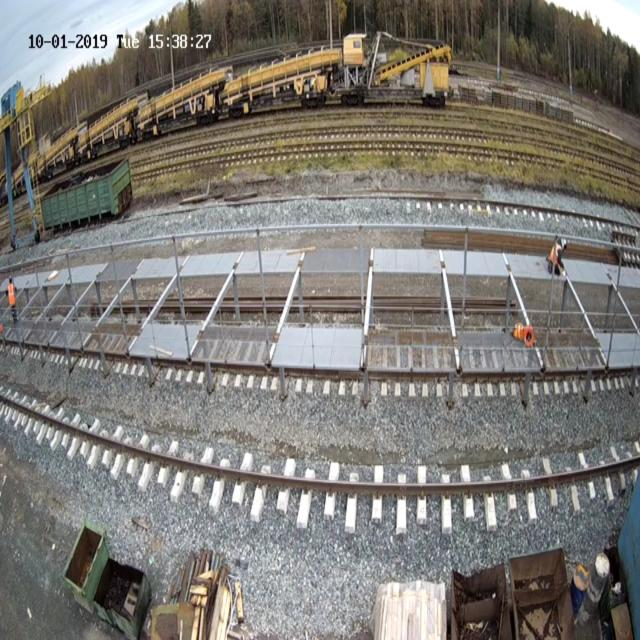Helmet: (558, 237, 566, 250)
Person: (547, 236, 567, 275), (6, 276, 18, 324)
